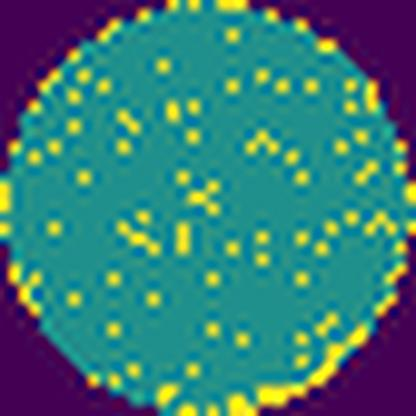Edge-Loc: (255, 318, 372, 406), (226, 391, 262, 416)
